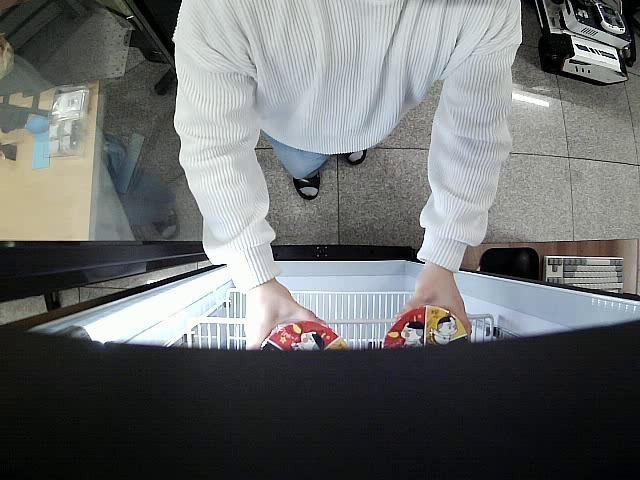07_buldak_L: (380, 302, 470, 350), (257, 320, 352, 355)
